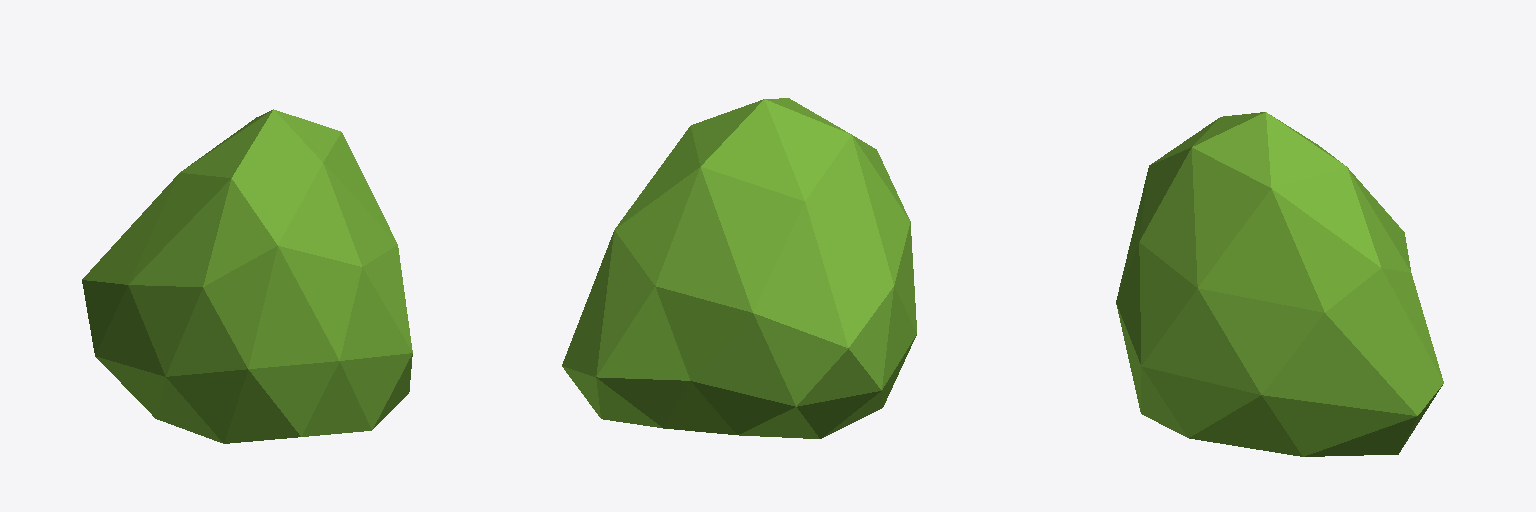
The picture shows the model from 3 angles: view 1: azimuth 30°, elevation 25°; view 2: azimuth 150°, elevation 25°; view 3: azimuth 270°, elevation 25°; orthographic projection.
Visible parts, largest first — view 1: Bush1_Icosphere.083; view 2: Bush1_Icosphere.083; view 3: Bush1_Icosphere.083.
Boxes of the visible parts, box(x1,y1,x2,y2) form: Bush1_Icosphere.083: box(82, 109, 412, 443); Bush1_Icosphere.083: box(562, 98, 916, 438); Bush1_Icosphere.083: box(1116, 112, 1443, 456).
Size of the model in its own units: 2.83 by 2.93 by 2.92.
1 materials, 1 textured.